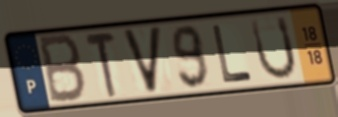9: (169, 23, 213, 91)
B: (38, 33, 88, 106)
L: (210, 23, 256, 84)
T: (82, 31, 120, 100)
U: (248, 13, 299, 83)
V: (119, 24, 164, 97)
